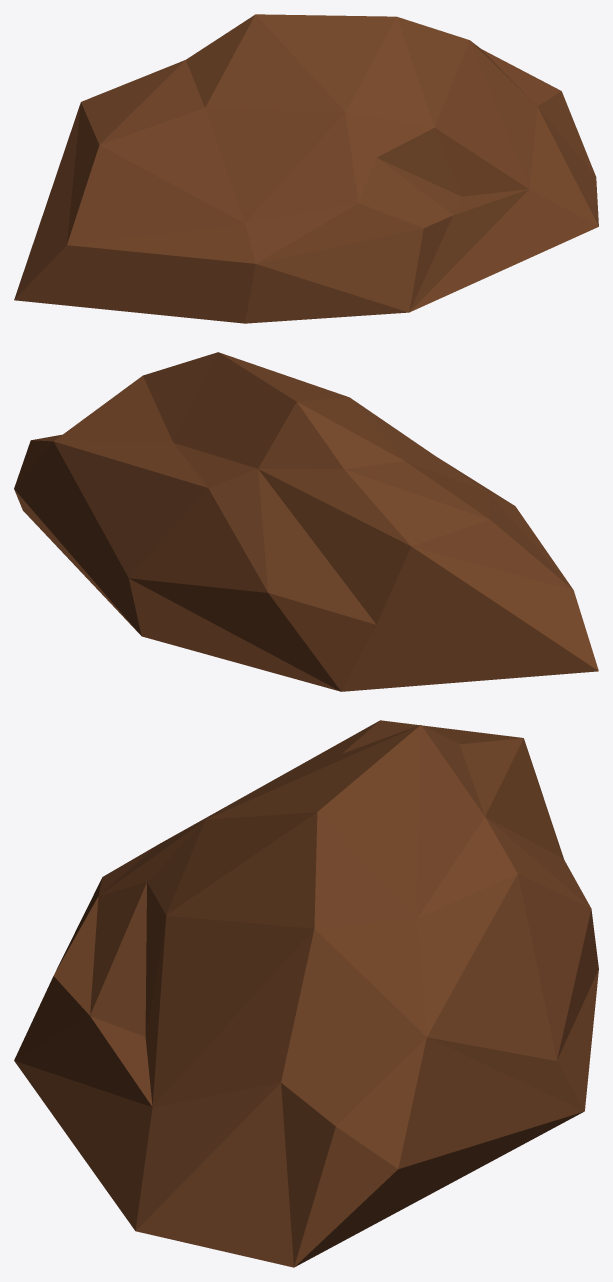
The model's file is Rock_2.fbx.
3 renders of one model, top to bottom at view 1: azimuth 30°, elevation 25°; view 2: azimuth 150°, elevation 25°; view 3: azimuth 270°, elevation 25°, orthographic. The views are drawn at different scales.
Parts seen in each view (by area): view 1: Rock_2; view 2: Rock_2; view 3: Rock_2.
Boxes of the visible parts, x1,y1,x2,y2 form: Rock_2: (14,14,598,323); Rock_2: (14,352,598,691); Rock_2: (14,720,598,1267).
Bounding box in the file's own units: 4364 × 1534 × 2546.
